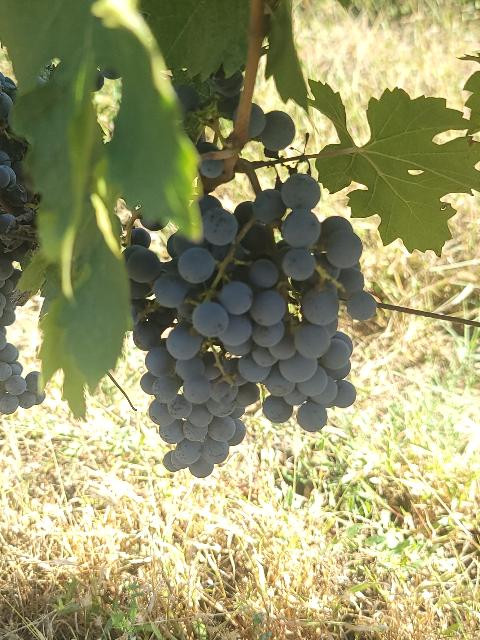grapes: (192, 175, 375, 431), (124, 236, 246, 478), (0, 72, 39, 262), (0, 254, 39, 415)
